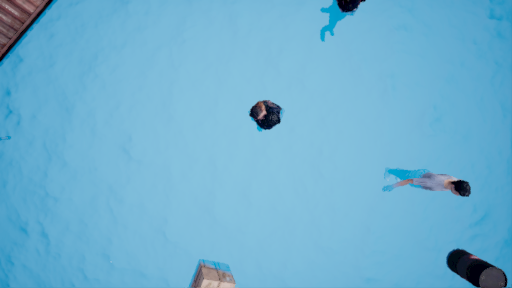person: (381, 160, 476, 206), (244, 100, 289, 133)
